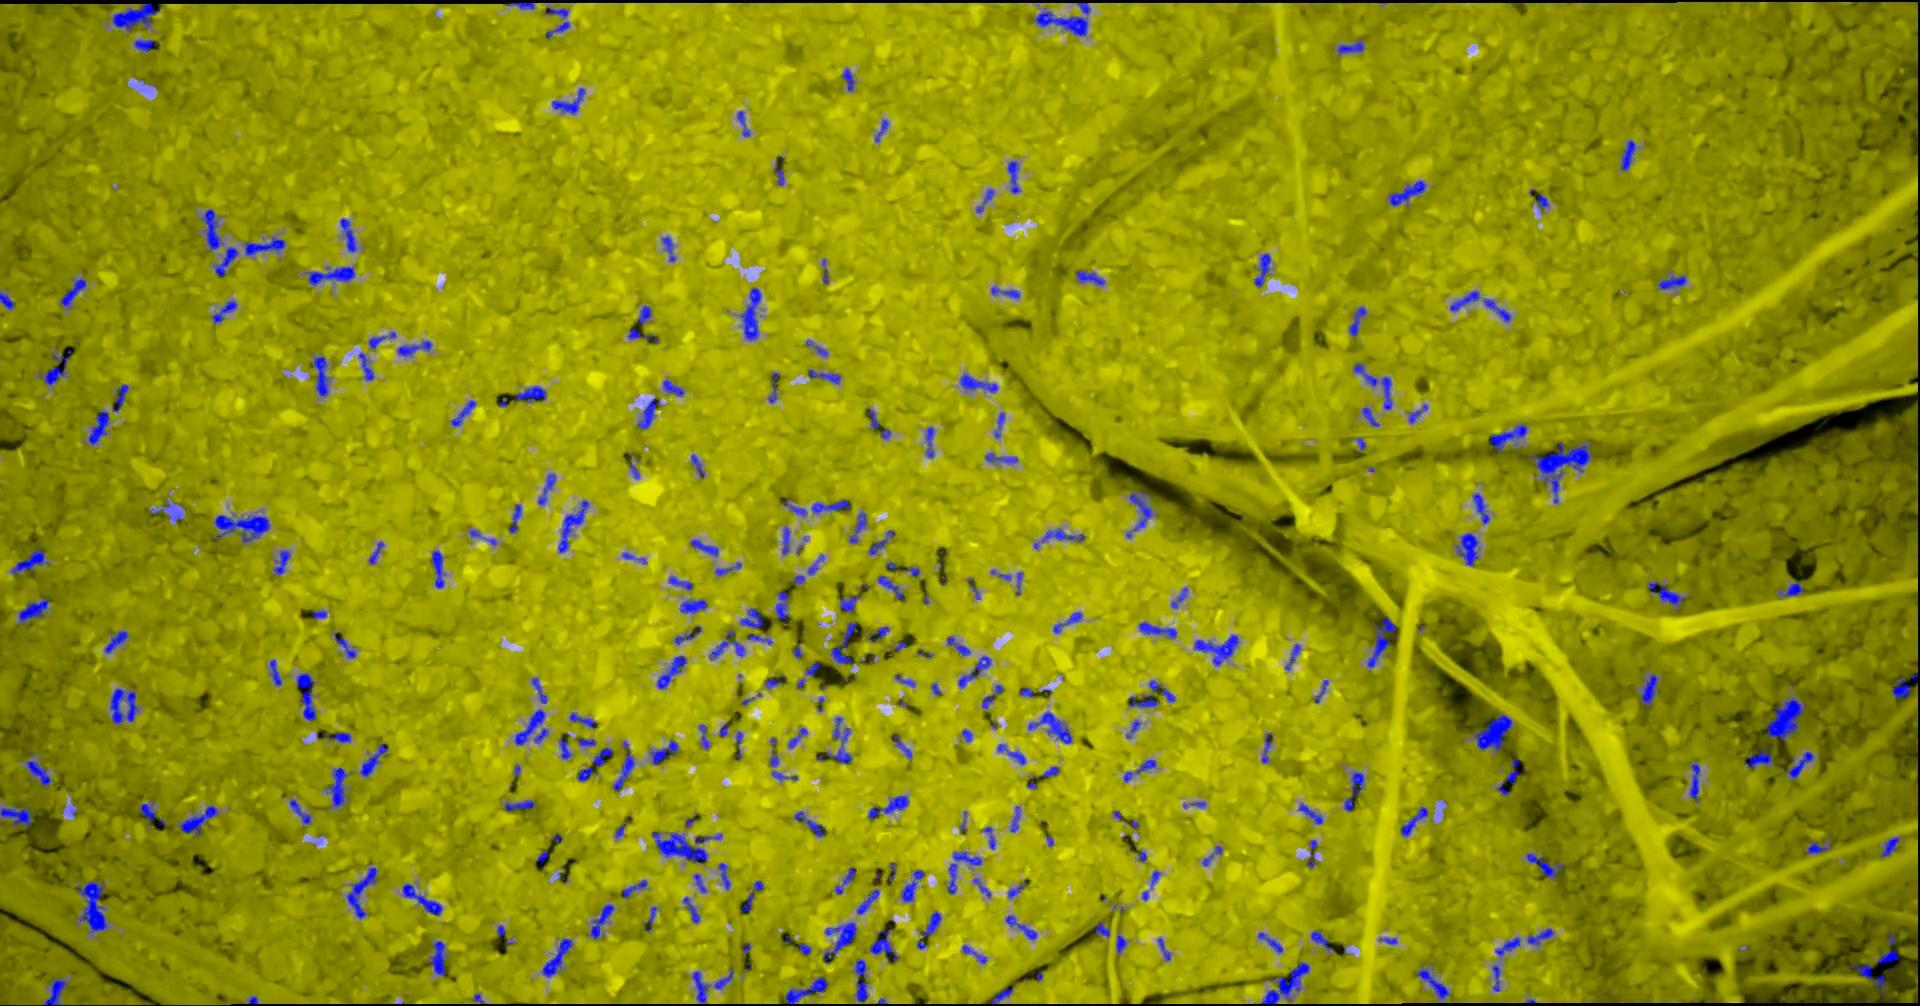ant: (651, 831, 721, 862), (1258, 962, 1309, 1005), (1032, 0, 1090, 36), (1352, 362, 1390, 409), (1765, 699, 1804, 741), (345, 868, 377, 918), (212, 514, 269, 542), (691, 967, 733, 1005), (557, 500, 588, 553), (76, 880, 107, 932), (947, 851, 982, 894), (1473, 714, 1512, 751), (1368, 616, 1396, 667), (1194, 634, 1238, 666), (1027, 711, 1070, 743), (822, 922, 855, 963), (110, 3, 157, 30), (783, 976, 827, 1005), (38, 348, 71, 385), (403, 883, 441, 915), (825, 716, 851, 763), (541, 937, 571, 976), (1488, 423, 1528, 452), (109, 685, 138, 724), (178, 805, 217, 835), (1416, 967, 1450, 998), (739, 287, 759, 340), (514, 709, 543, 746), (830, 621, 856, 663), (957, 655, 990, 687), (709, 630, 744, 659), (1849, 964, 1884, 993), (1525, 854, 1564, 879), (867, 795, 908, 819), (1387, 180, 1425, 206), (657, 655, 686, 688), (305, 265, 354, 285), (10, 549, 47, 574), (551, 86, 584, 114), (359, 743, 387, 776), (1647, 580, 1685, 605), (296, 672, 315, 720), (201, 208, 222, 250), (324, 767, 347, 807), (768, 749, 797, 780), (1782, 751, 1813, 779), (870, 929, 897, 962), (1129, 490, 1150, 531), (612, 752, 634, 790), (1399, 807, 1427, 836), (1876, 934, 1898, 969), (1455, 532, 1479, 565), (1004, 915, 1037, 939), (590, 904, 613, 939), (60, 278, 86, 307), (543, 6, 569, 37), (244, 236, 284, 255), (18, 597, 48, 622), (1343, 772, 1364, 810), (794, 810, 823, 836), (959, 373, 997, 392), (902, 869, 924, 901), (740, 880, 763, 912), (1123, 760, 1156, 781), (41, 978, 67, 1005), (213, 246, 237, 276), (649, 739, 678, 763), (88, 410, 108, 445), (0, 804, 30, 827), (450, 399, 475, 426), (1040, 527, 1084, 542), (25, 760, 51, 786), (138, 800, 165, 826), (311, 356, 328, 396), (1449, 290, 1479, 311), (637, 398, 659, 428), (150, 500, 182, 521), (877, 575, 903, 600), (1483, 298, 1510, 321), (1051, 612, 1081, 633), (1639, 673, 1657, 706), (428, 940, 444, 976), (869, 530, 893, 554), (211, 300, 236, 323), (1138, 622, 1176, 638), (288, 799, 311, 824), (856, 889, 879, 915), (334, 631, 356, 658), (1148, 680, 1175, 701), (834, 868, 856, 894), (997, 743, 1025, 763), (537, 473, 555, 504), (848, 511, 866, 542), (103, 630, 127, 653), (855, 958, 867, 1001), (1253, 253, 1270, 286), (1349, 306, 1366, 337), (1472, 493, 1490, 523), (1745, 747, 1771, 767), (811, 499, 850, 513), (430, 550, 444, 588), (982, 683, 1003, 708), (1298, 801, 1322, 823), (1257, 932, 1283, 953), (340, 218, 356, 251), (627, 326, 658, 343), (397, 340, 430, 356), (514, 385, 545, 401), (110, 384, 128, 412), (739, 607, 763, 627), (1620, 138, 1636, 170), (674, 625, 700, 644), (922, 911, 941, 936), (988, 986, 1013, 1005), (1689, 760, 1700, 801), (620, 879, 646, 897), (1310, 930, 1333, 950), (808, 370, 841, 384), (690, 539, 717, 555), (1284, 643, 1300, 671), (975, 188, 994, 212), (891, 734, 910, 758), (1495, 937, 1519, 956), (368, 332, 395, 348), (682, 895, 698, 922), (947, 635, 969, 655), (1891, 677, 1911, 699), (787, 727, 808, 748), (963, 944, 985, 963), (358, 352, 373, 380), (469, 528, 497, 544), (569, 713, 597, 728), (1006, 160, 1018, 193), (1201, 845, 1222, 865), (775, 589, 789, 619), (1128, 694, 1157, 708), (1336, 39, 1363, 55), (1526, 929, 1553, 944), (273, 550, 290, 574), (1076, 271, 1103, 285), (1658, 276, 1686, 290), (714, 561, 742, 575), (679, 600, 707, 614), (1778, 580, 1803, 596), (531, 677, 546, 702), (592, 747, 612, 766), (662, 379, 683, 396), (508, 503, 521, 532), (783, 499, 808, 514), (1408, 404, 1427, 423), (1879, 837, 1898, 856), (971, 878, 990, 897), (1170, 587, 1187, 607), (839, 594, 860, 612), (805, 339, 827, 356), (990, 286, 1018, 298), (368, 541, 383, 564), (316, 732, 350, 742), (1261, 733, 1272, 763), (504, 799, 535, 810), (717, 862, 730, 889), (662, 236, 676, 260), (690, 453, 703, 478), (668, 575, 692, 589), (1505, 758, 1519, 782), (984, 452, 1017, 462), (1018, 687, 1051, 697), (767, 372, 778, 401), (867, 626, 889, 641), (737, 111, 749, 136), (626, 452, 639, 478), (644, 906, 657, 931), (841, 69, 855, 91), (1361, 406, 1378, 426), (808, 554, 823, 574), (557, 735, 570, 760), (993, 412, 1004, 438), (874, 119, 888, 141), (1007, 880, 1025, 897), (269, 659, 281, 685), (1125, 719, 1140, 738), (983, 826, 996, 848), (1157, 937, 1170, 960), (764, 674, 785, 688), (1307, 840, 1317, 868), (924, 426, 933, 457), (894, 673, 916, 686), (1806, 841, 1827, 854), (504, 0, 535, 9), (775, 155, 783, 185), (636, 305, 651, 323), (1093, 920, 1109, 937), (747, 634, 772, 644), (0, 291, 14, 309), (698, 724, 709, 748), (693, 873, 706, 892), (577, 766, 592, 781), (536, 850, 549, 868), (1491, 965, 1500, 991), (135, 39, 154, 51), (1010, 807, 1018, 831), (805, 662, 820, 676), (535, 727, 547, 743), (781, 527, 789, 554), (1115, 935, 1126, 953), (1537, 193, 1548, 210), (1041, 766, 1058, 777), (869, 408, 877, 428), (577, 738, 596, 746), (797, 942, 810, 954), (311, 610, 326, 619)
